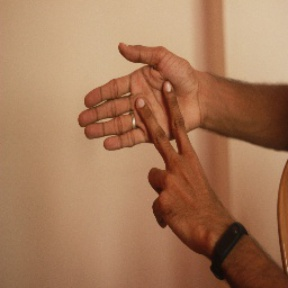N: (79, 38, 214, 208)
